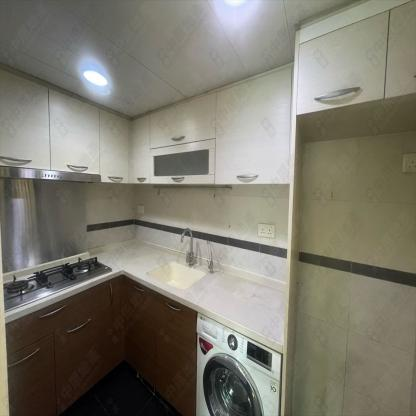Cupboard: (1, 65, 293, 183), (6, 274, 199, 415)
Exhaust Hood: (0, 166, 99, 182)
Faucet: (179, 227, 196, 266)
Sink: (146, 262, 205, 289)
Stove: (5, 254, 112, 314)
Washing Machine: (195, 310, 282, 415)
